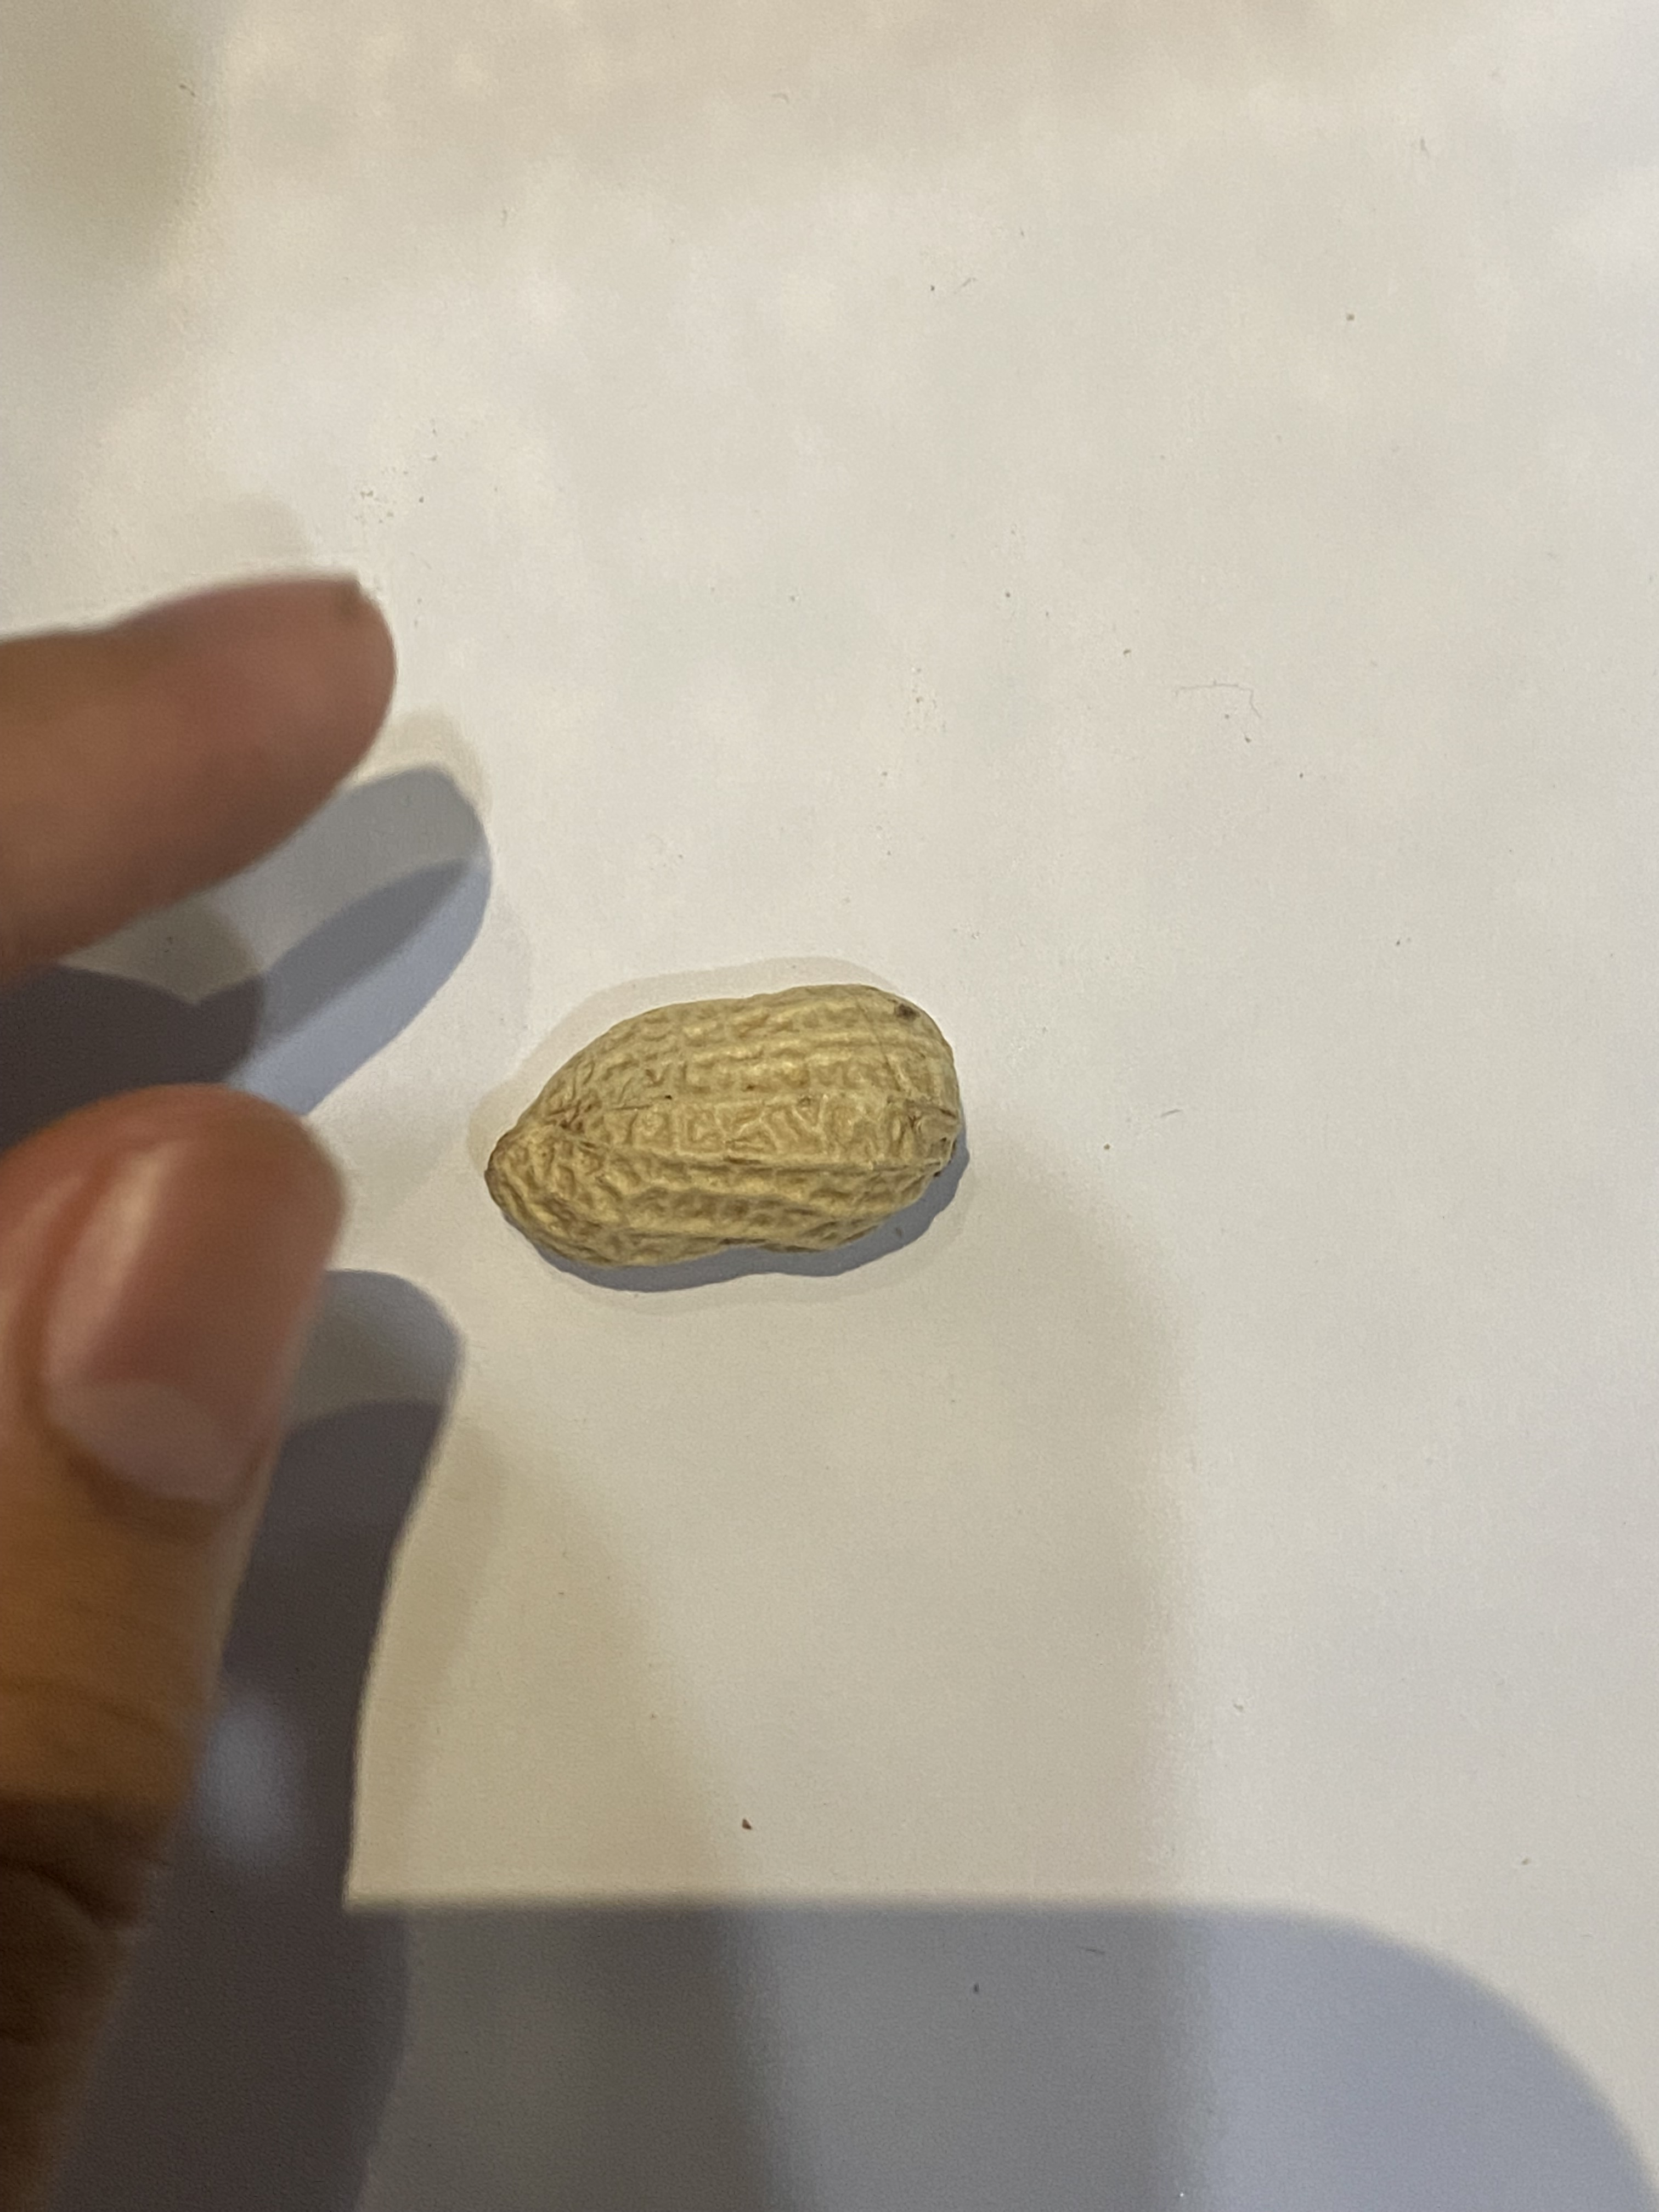kacang1: (477, 982, 967, 1278)
